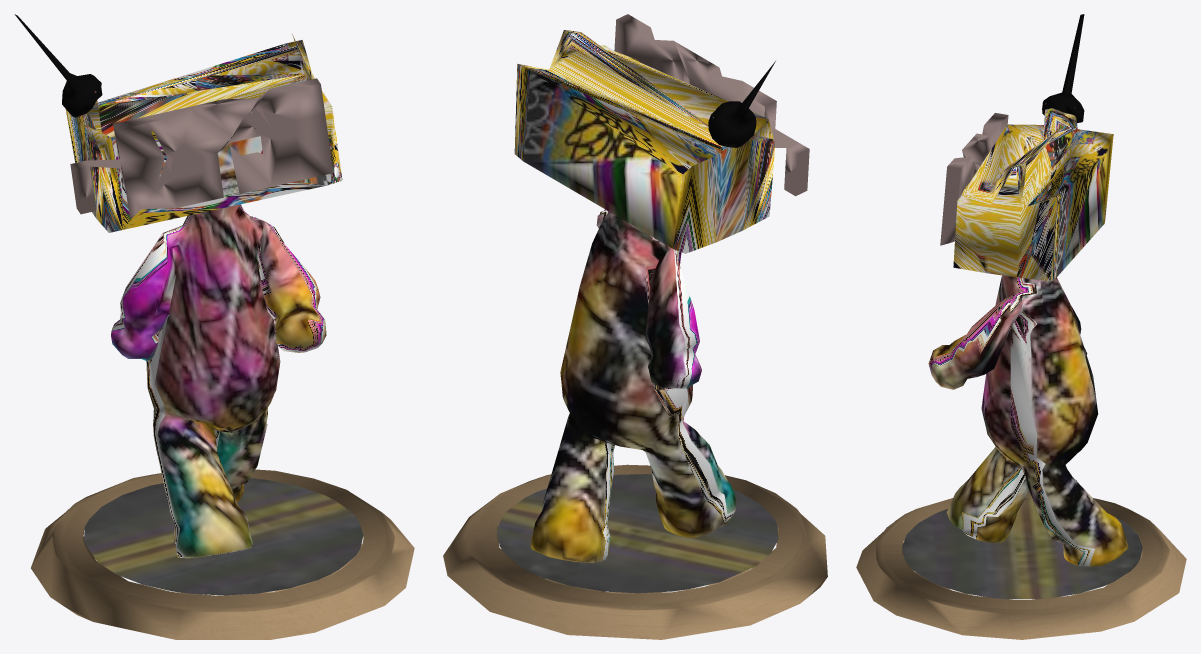
3 renders of one model, left to right at view 1: azimuth 30°, elevation 25°; view 2: azimuth 150°, elevation 25°; view 3: azimuth 270°, elevation 25°, orthographic. The views are drawn at different scales.
Bounding box in the file's own units: 1.47 × 2.33 × 1.44.
6 materials, 5 textured.
